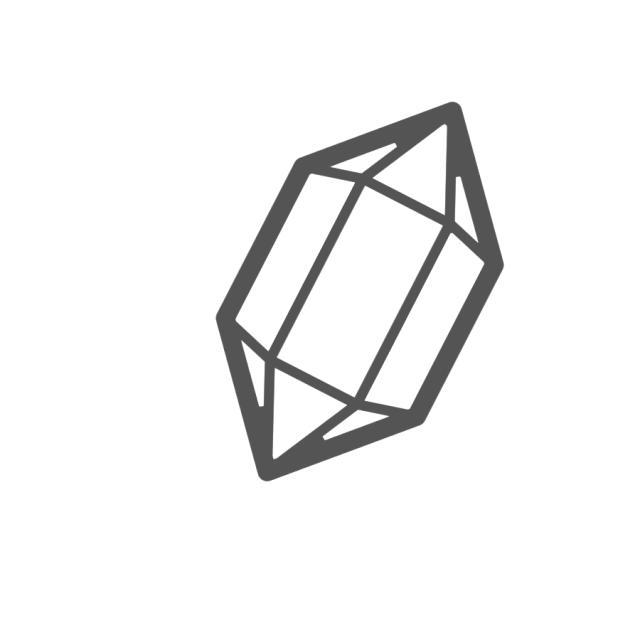crystal: (210, 97, 512, 490)
